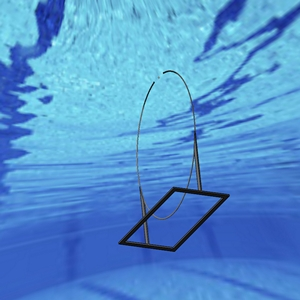circle: (118, 68, 229, 252)
